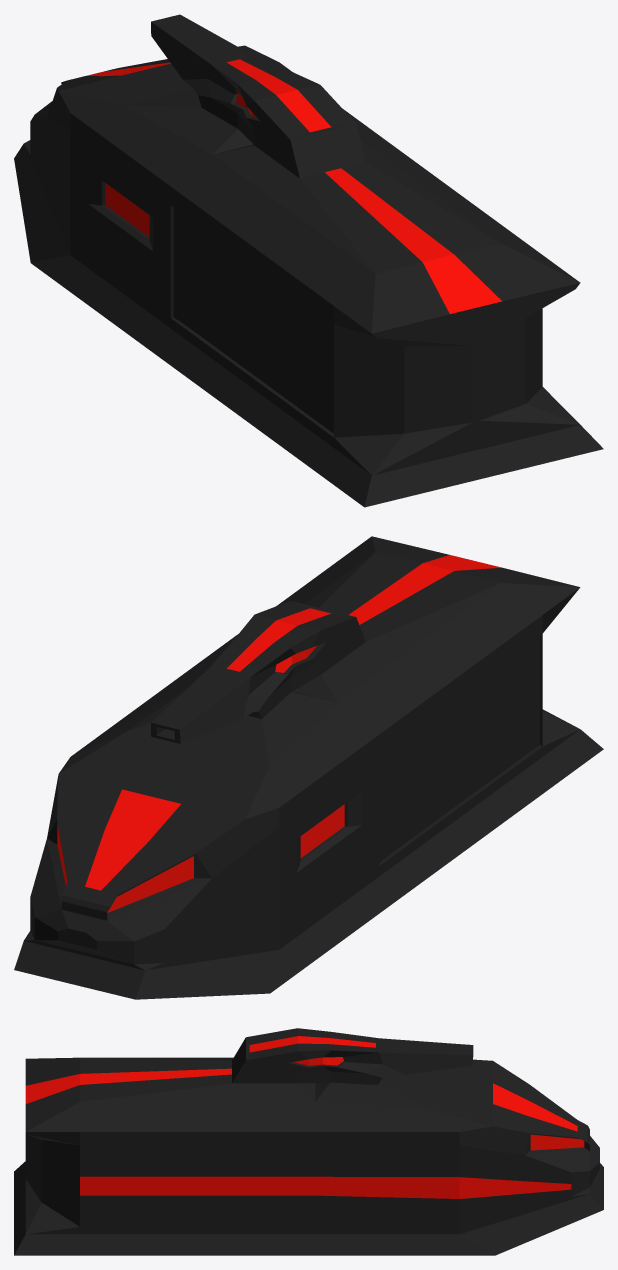
Rendered from Enemy_Spawn.fbx.
The picture shows the model from 3 angles, top to bottom: view 1: azimuth 30°, elevation 25°; view 2: azimuth 150°, elevation 25°; view 3: azimuth 270°, elevation 25°; orthographic projection. The views are drawn at different scales.
Parts seen in each view (by area): view 1: Cube, ground, door; view 2: Cube, ground, door; view 3: Cube, ground.
Boxes of the visible parts, <box> form: Cube: <box>24,14,580,475</box>; ground: <box>14,144,603,507</box>; door: <box>173,207,333,433</box>; Cube: <box>24,536,580,970</box>; ground: <box>14,729,603,999</box>; door: <box>379,634,542,862</box>; Cube: <box>25,1028,599,1234</box>; ground: <box>14,1161,603,1255</box>.
Size of the model in its own units: 459 by 442 by 1359.
